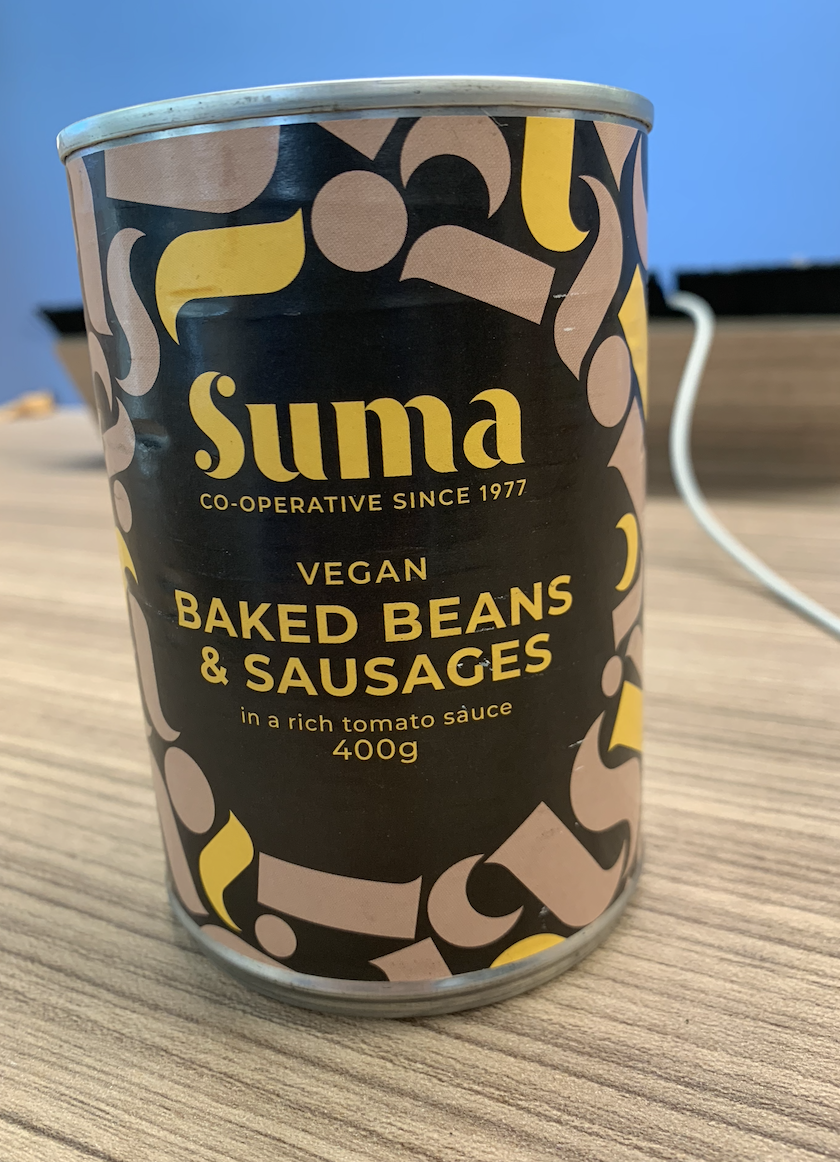Baked beans_400-499g: (146, 176, 641, 940)
